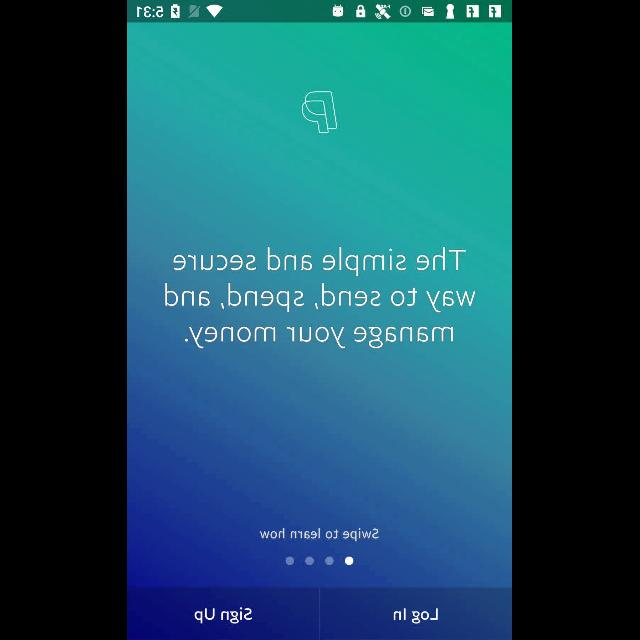image: (302, 90, 338, 134)
pageindicator: (286, 556, 354, 566)
text: (166, 247, 477, 349), (260, 528, 380, 542)
textbutton: (321, 588, 513, 640), (128, 588, 320, 640)
uppertaskbar: (128, 1, 512, 23)
